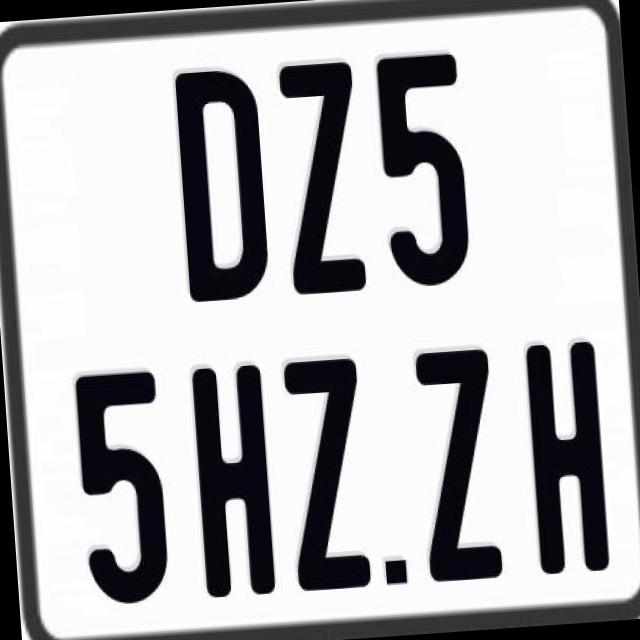5: (72, 368, 172, 612), (372, 48, 471, 284)
D: (173, 68, 272, 312)
H: (521, 337, 611, 581), (187, 360, 270, 593)
Z: (414, 346, 508, 590), (276, 56, 364, 292), (279, 358, 367, 592)
